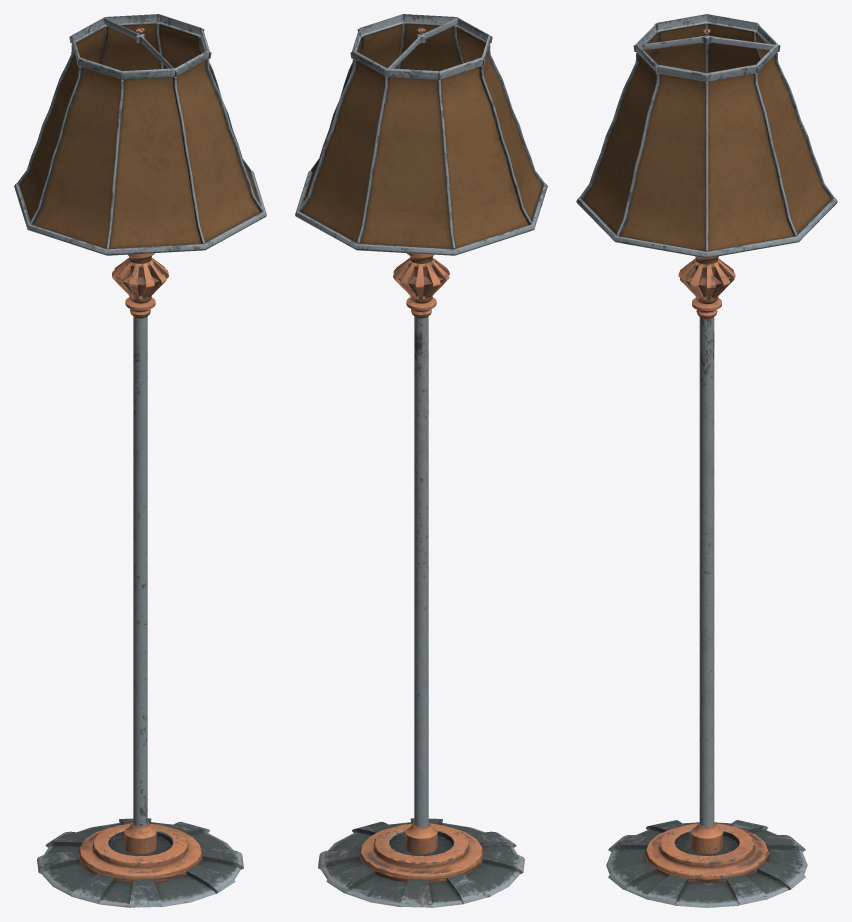
File: lamp.dae
3 views of the same model, side by side, from view 1: azimuth 30°, elevation 25°; view 2: azimuth 150°, elevation 25°; view 3: azimuth 270°, elevation 25° (orthographic).
Visible parts, largest first — view 1: pSphere4; view 2: pSphere4; view 3: pSphere4.
Part boxes in pixels (bbox=[...]): pSphere4: bbox=[14, 14, 266, 907]; pSphere4: bbox=[295, 14, 547, 907]; pSphere4: bbox=[576, 14, 837, 907].
Size of the model in its own units: 55.8 by 55.81 by 197.
2 materials, 2 textured.
